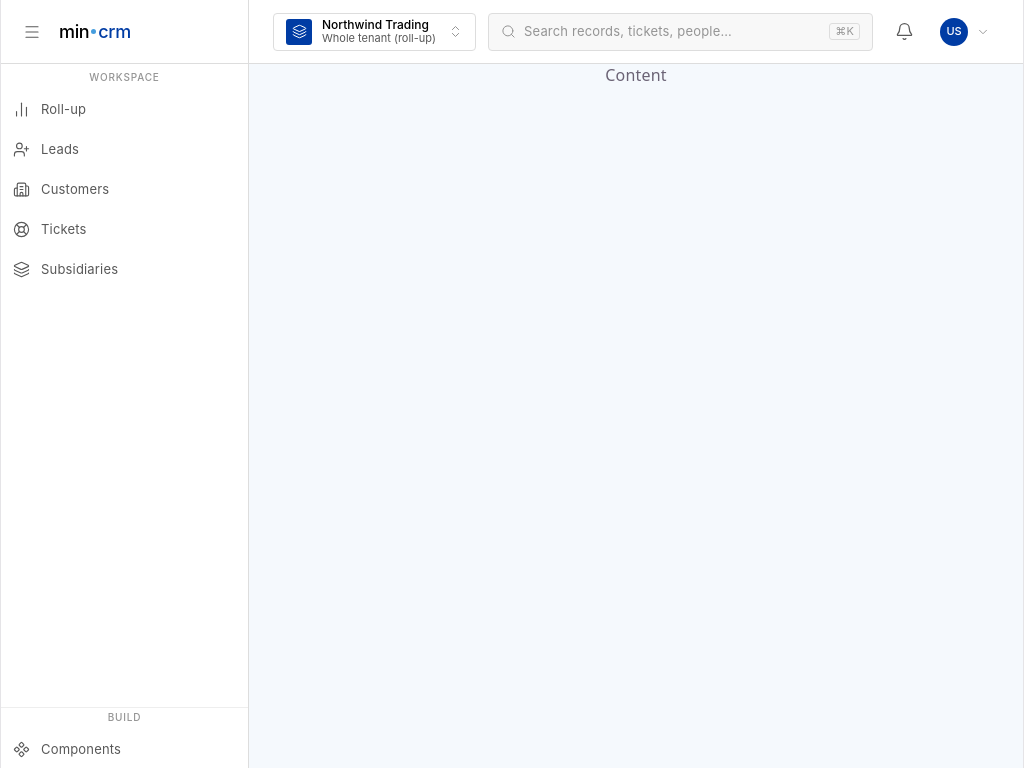
Test case: ScopeSwitcher — tenant_admin (whole tenant scope) › clicking chip opens the dropdown
Click the button with test id "scope-switcher-chip" at (374, 32), box [273,12,476,50]
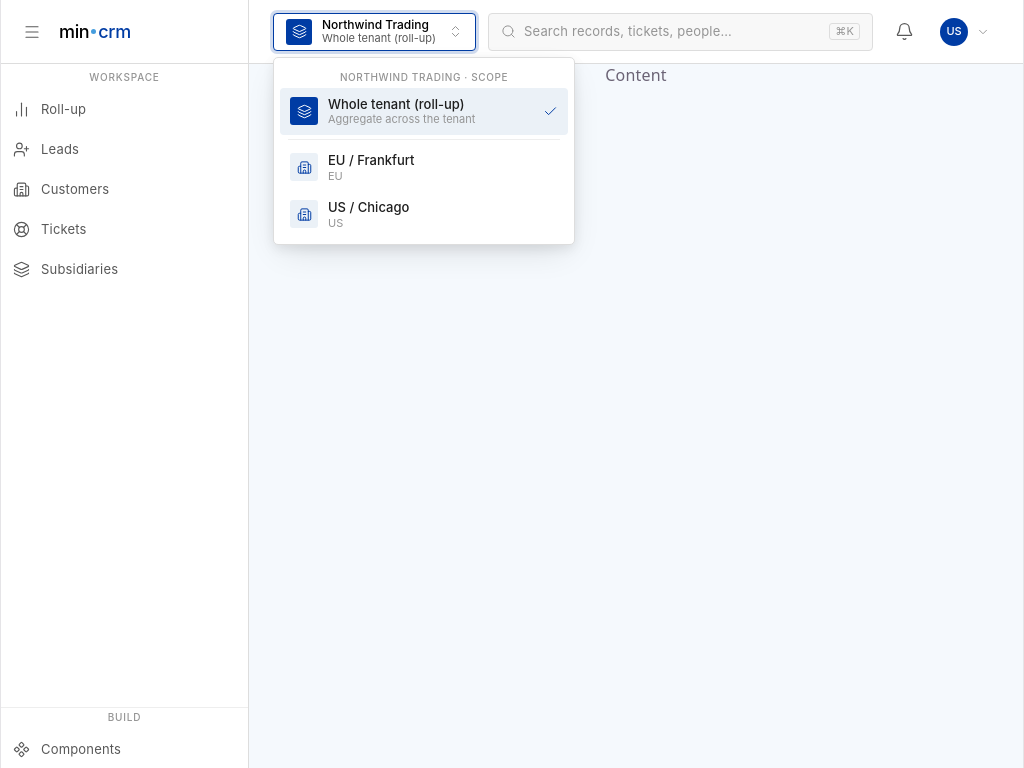
Expected: the element with test id "scope-dropdown" is shown, [273,56,575,245]
